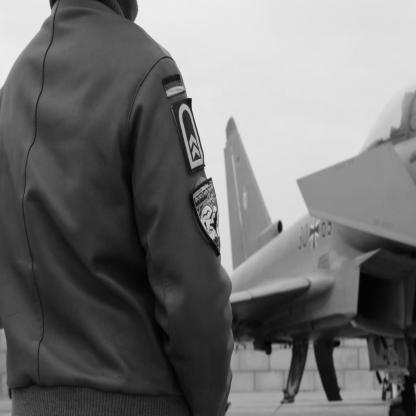EF2000: (224, 82, 416, 416)
